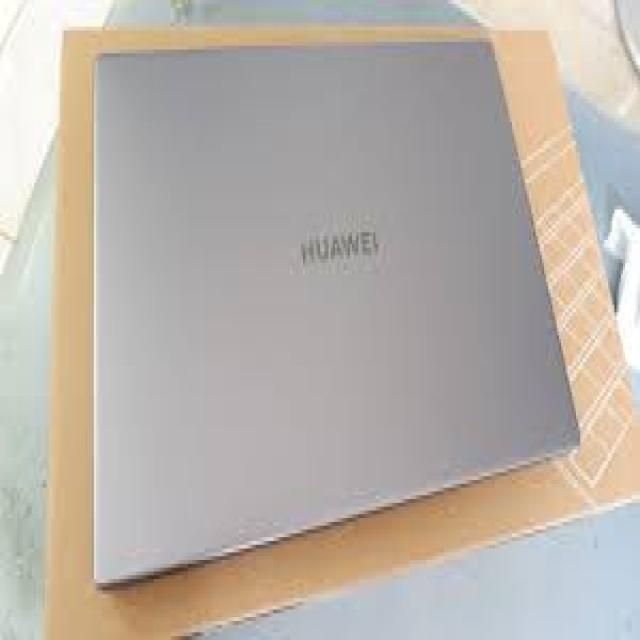laptop: (73, 19, 580, 591)
